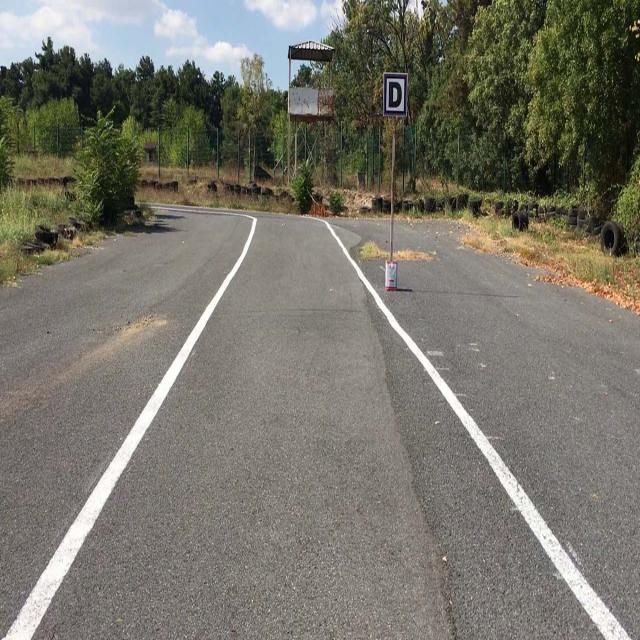durak: (384, 73, 406, 116)
